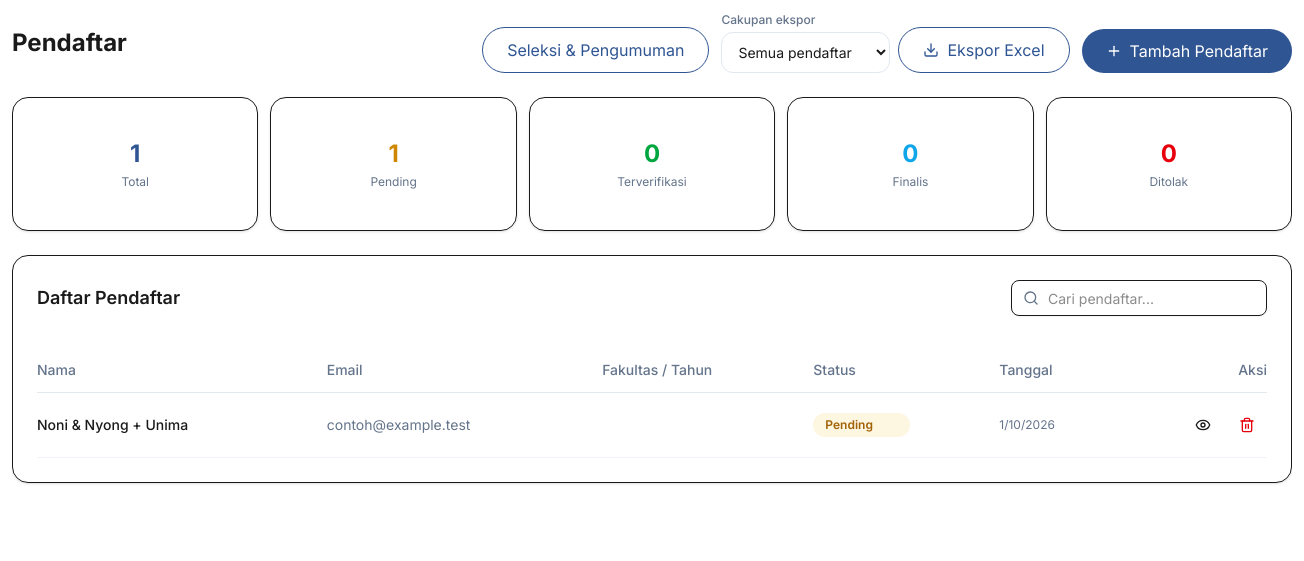
Test: Applicants Excel export › shows the human JSON error for HTTP 500
Click the button "Ekspor Excel".
click(984, 50)  # box [898, 27, 1070, 73]
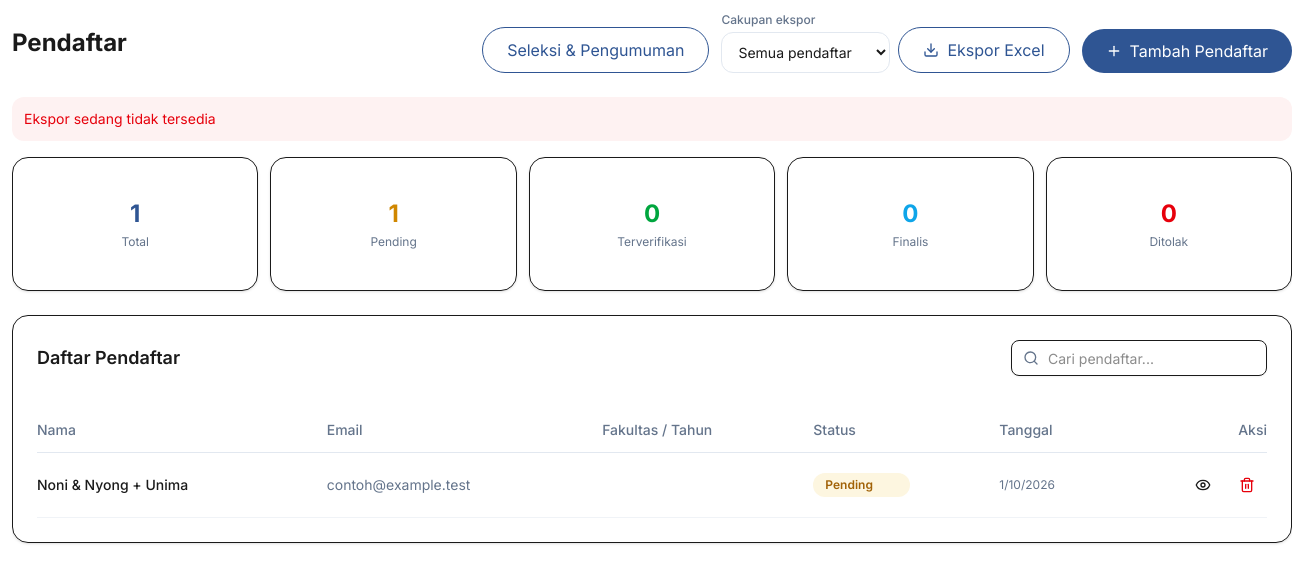
Expected: the dropdown labelled "Cakupan ekspor" is enabled, [722, 32, 890, 73]
Result: the message reads "Ekspor sedang tidak tersedia" at [24, 110, 216, 127]
